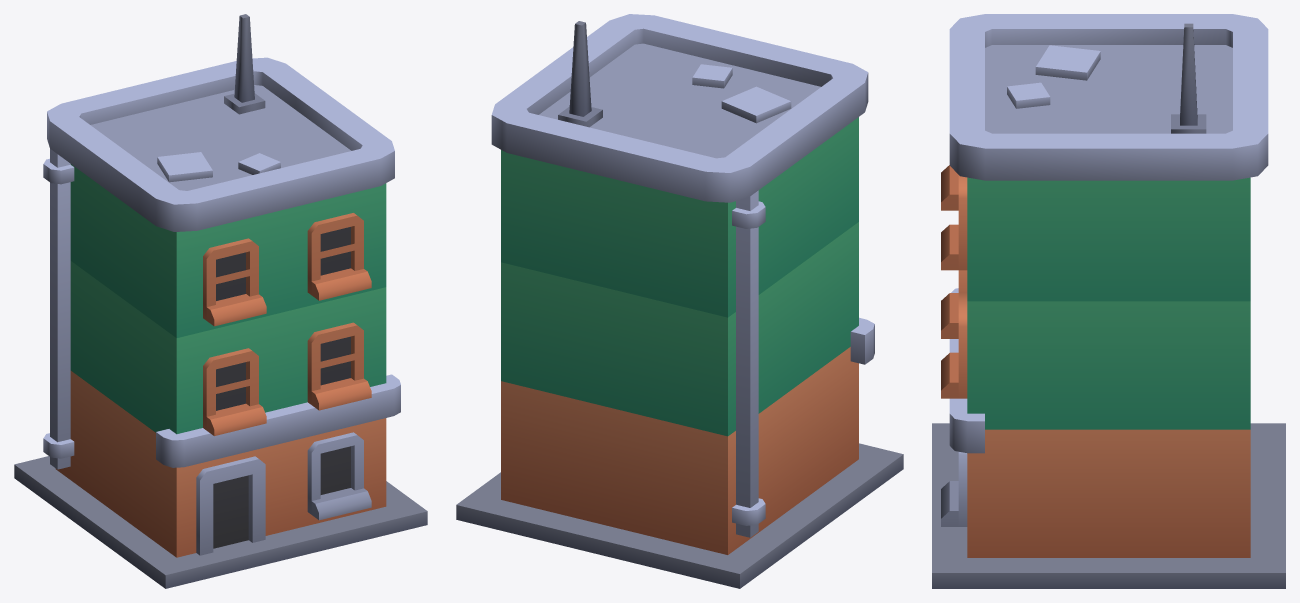
File: building-small-b.glb
3 views of the same model, side by side, from view 1: azimuth 30°, elevation 25°; view 2: azimuth 150°, elevation 25°; view 3: azimuth 270°, elevation 25° (orthographic). The views are drawn at different scales.
Parts seen in each view (by area): view 1: building-small-b; view 2: building-small-b; view 3: building-small-b.
Part boxes in pixels (<box>): building-small-b: <box>14,14,427,588</box>; building-small-b: <box>456,14,903,588</box>; building-small-b: <box>932,14,1285,588</box>.
Bounding box in the file's own units: 1 × 1.63 × 1.
1 material, 1 textured.
